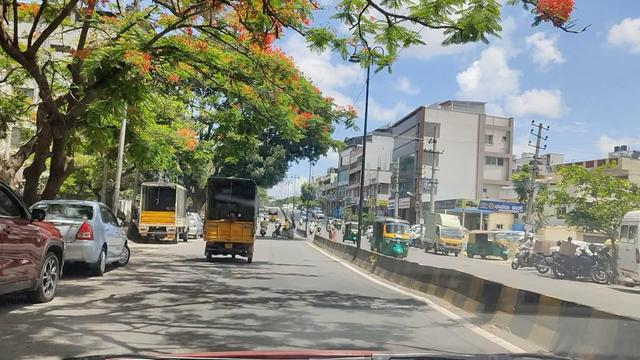HMV: (202, 167, 255, 260), (129, 177, 183, 244)
